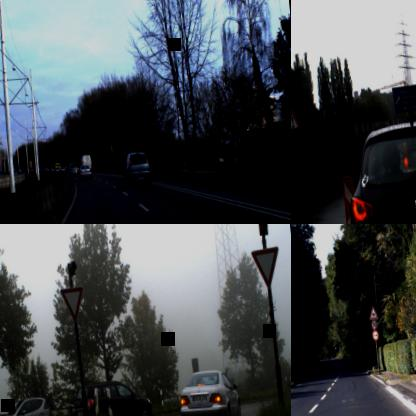DANGER: (291, 107, 301, 133)
give way: (250, 246, 282, 291), (60, 286, 86, 324)
no overtaking (trucks): (372, 329, 379, 341)
slippery road: (368, 305, 378, 320)
speed limit 50: (370, 320, 378, 330)
speed limit 60: (232, 96, 245, 116)
